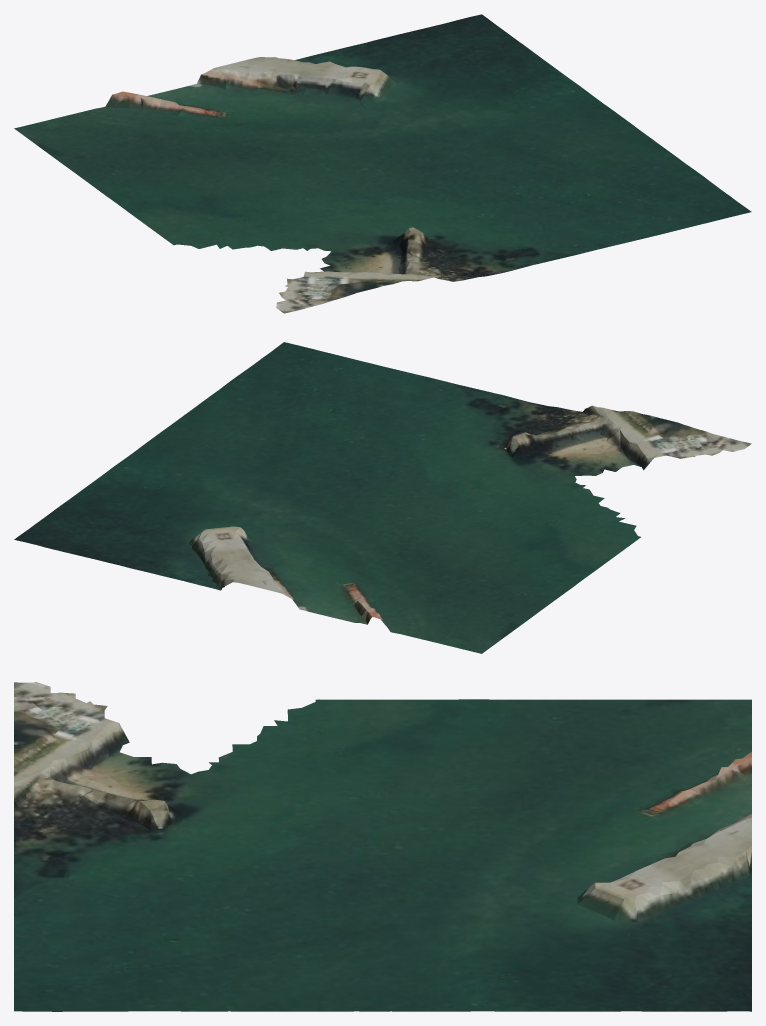
The picture shows the model from 3 angles, top to bottom: view 1: azimuth 30°, elevation 25°; view 2: azimuth 150°, elevation 25°; view 3: azimuth 270°, elevation 25°; orthographic projection. The views are drawn at different scales.
Size of the model in its own units: 209 by 7.1 by 209.
3 materials, 3 textured.
